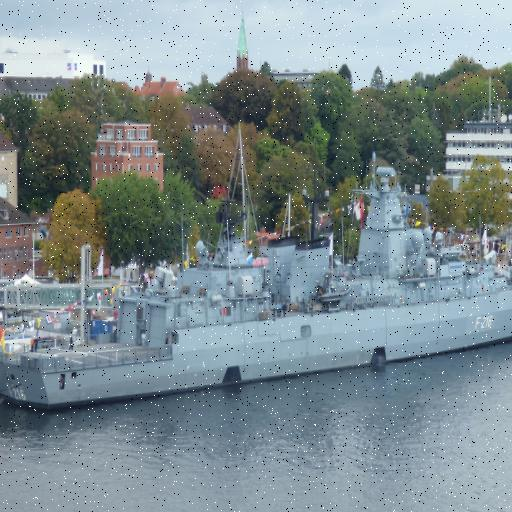Fragata: (1, 159, 512, 418)
